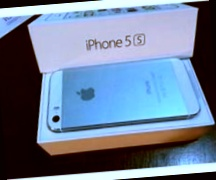iphone: (44, 64, 199, 130)
